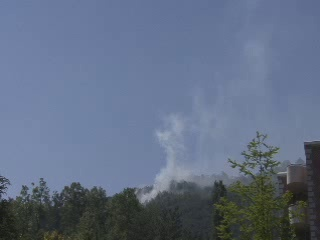smoke: (206, 46, 264, 186), (132, 110, 209, 203)
